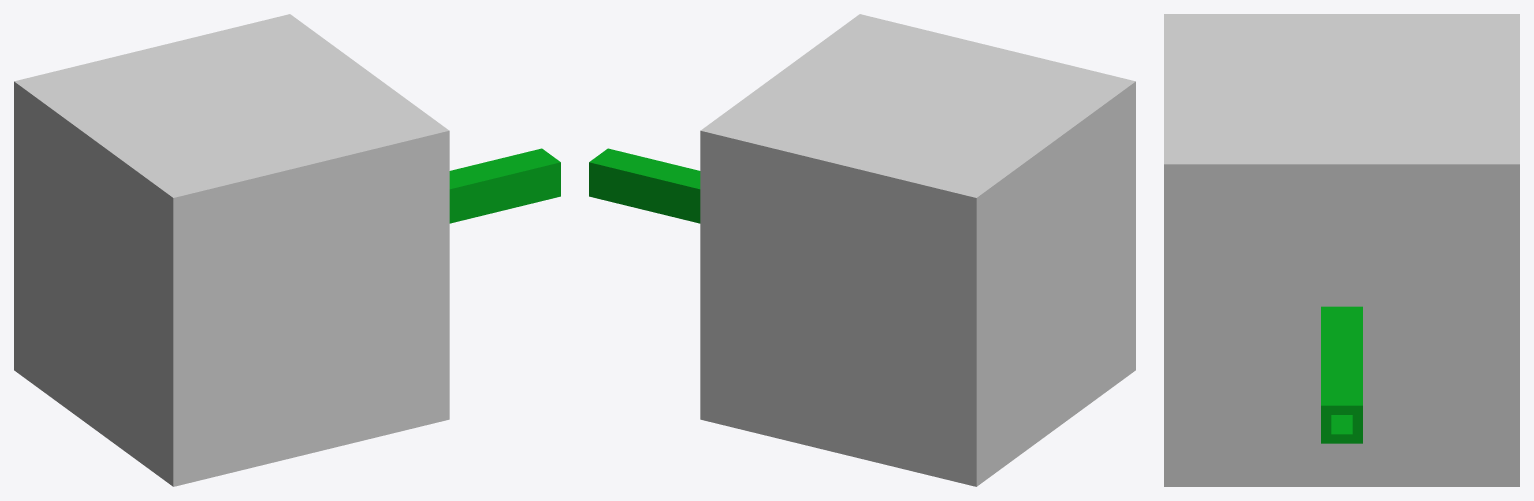
File: SimpleSpaceship.glb
3 renders of one model, left to right at view 1: azimuth 30°, elevation 25°; view 2: azimuth 150°, elevation 25°; view 3: azimuth 270°, elevation 25°, orthographic. The views are drawn at different scales.
Visible parts, largest first — view 1: Simple Spaceship; view 2: Simple Spaceship; view 3: Simple Spaceship.
Part boxes in pixels (left/top/right/bottom): Simple Spaceship: left=14, top=14, right=560, bottom=486; Simple Spaceship: left=589, top=14, right=1135, bottom=486; Simple Spaceship: left=1164, top=14, right=1519, bottom=486.
Size of the model in its own units: 3.32 by 2 by 2.
